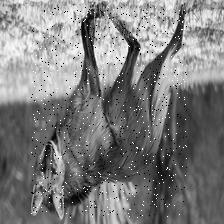WOLF: (31, 7, 187, 218)
